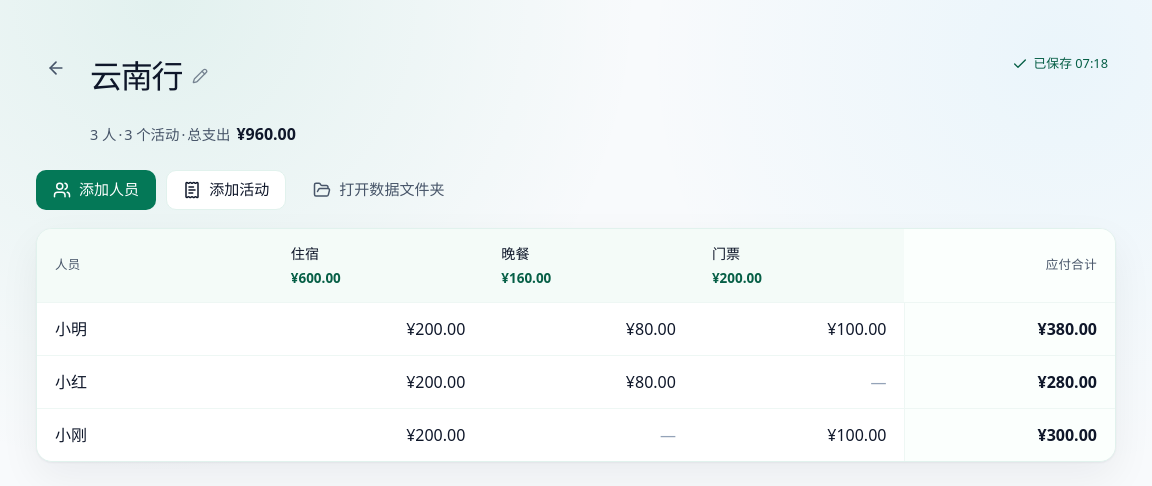
ProjectScreen › cancels title editing with Escape
Click the button with aria-label "编辑项目名称" at coordinates (153, 76), box [90,48,216,104]
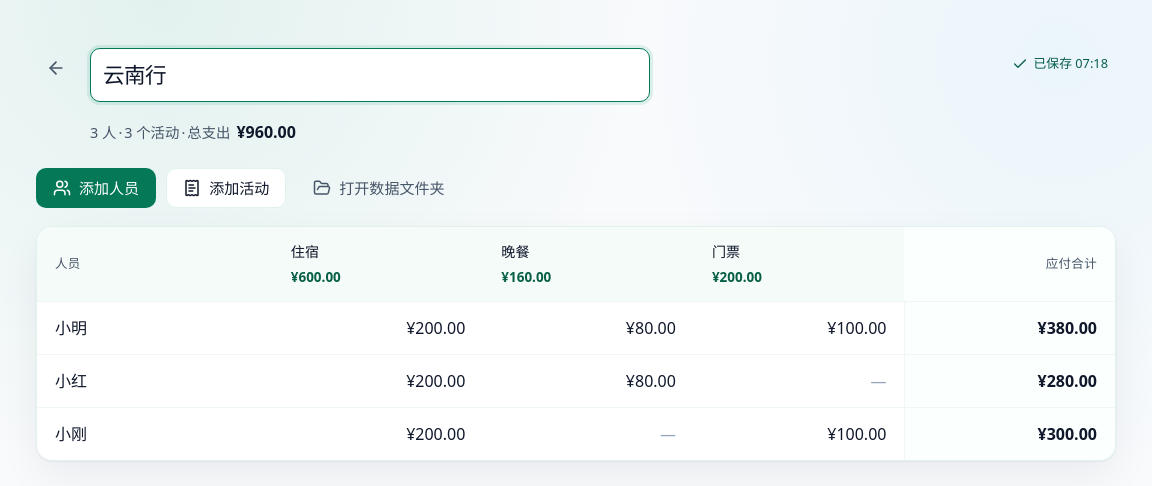
Replace the text in the field named "项目名称" with "不要保存" at coordinates (370, 75), box [90,48,650,102]
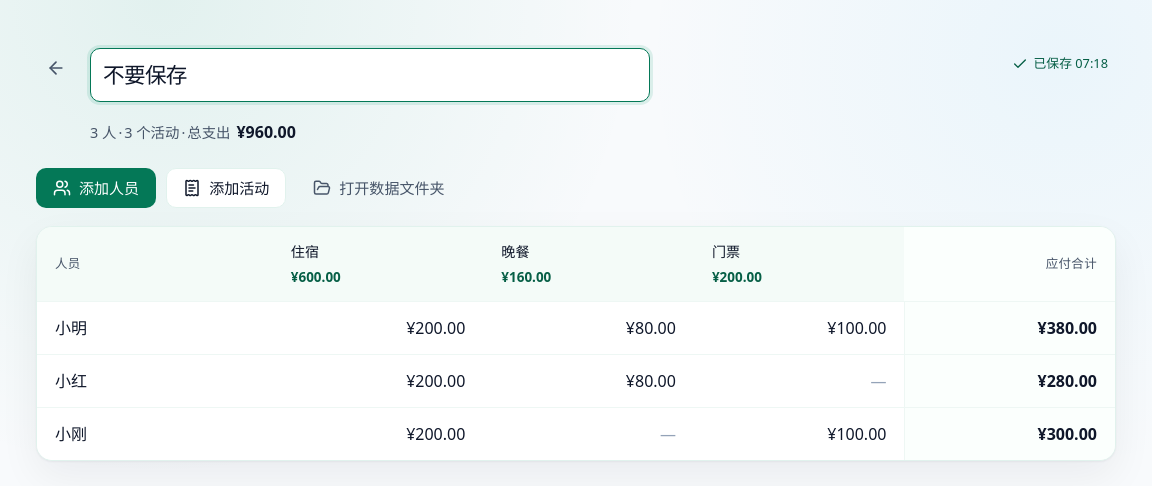
Press Escape
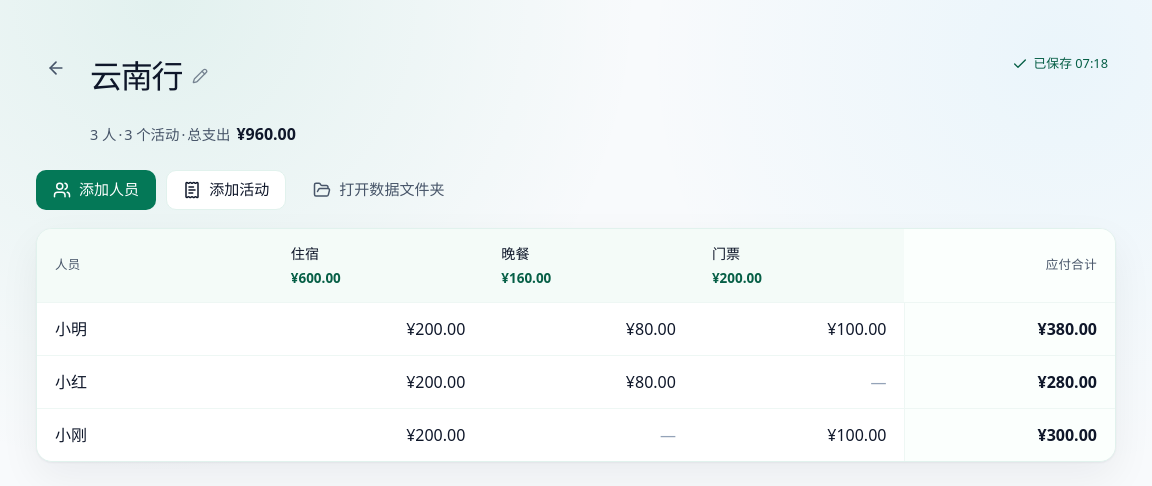
Check: the field labelled "项目名称" is gone
Check: the button with aria-label "编辑项目名称" reads "云南行", box [90,48,216,104]
